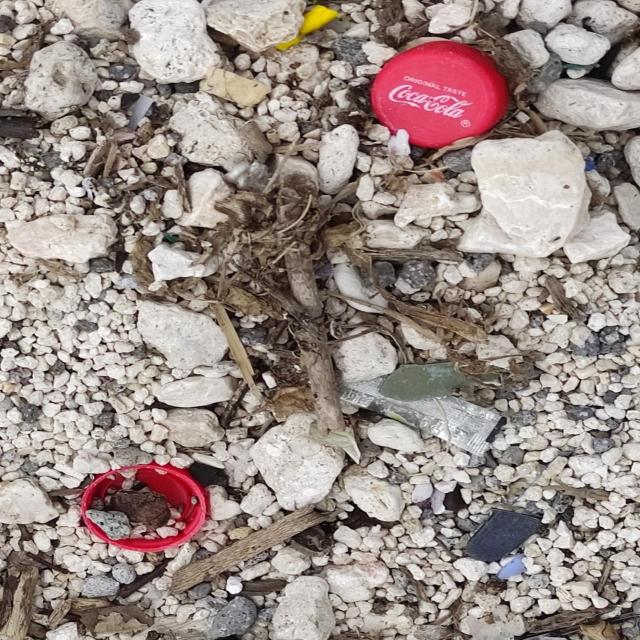plastic_waste: (370, 44, 510, 151), (81, 464, 208, 551)
